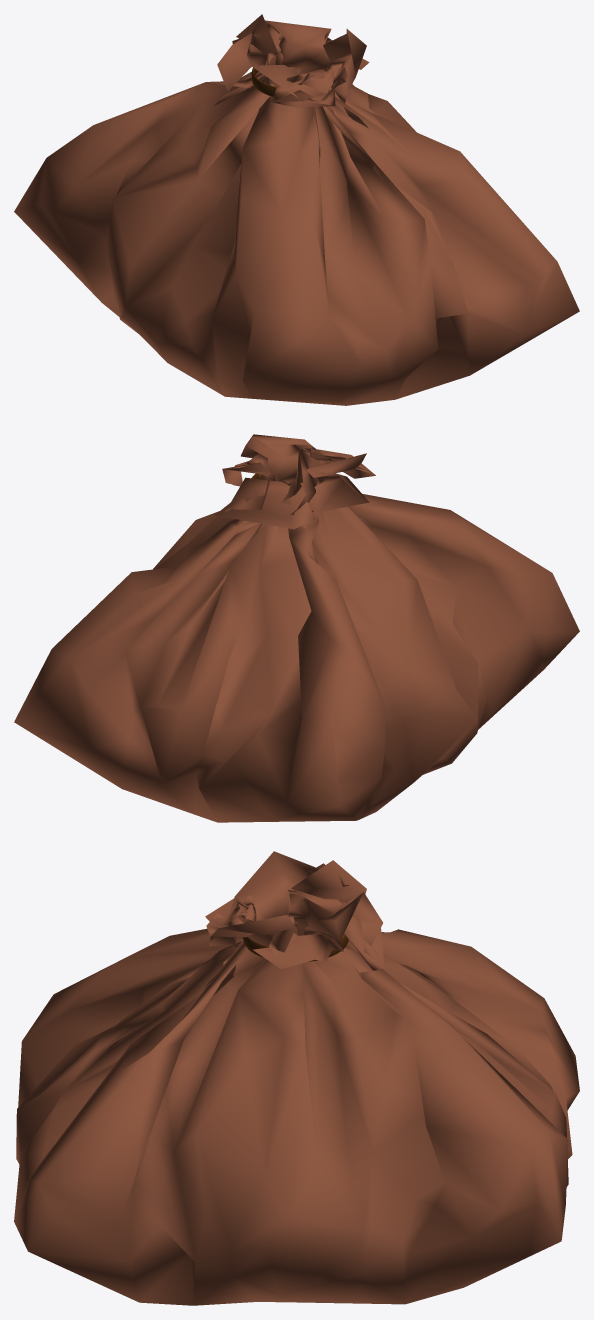
The model's file is bag.gltf.
The picture shows the model from 3 angles, top to bottom: view 1: azimuth 30°, elevation 25°; view 2: azimuth 150°, elevation 25°; view 3: azimuth 270°, elevation 25°; orthographic projection. The views are drawn at different scales.
Parts seen in each view (by area): view 1: Bag; view 2: Bag; view 3: Bag.
Part boxes in pixels (bbox=[...]): Bag: bbox=[14, 14, 579, 405]; Bag: bbox=[14, 434, 579, 822]; Bag: bbox=[14, 851, 579, 1305].
Bounding box in the file's own units: 2.8 × 2.55 × 3.37.
